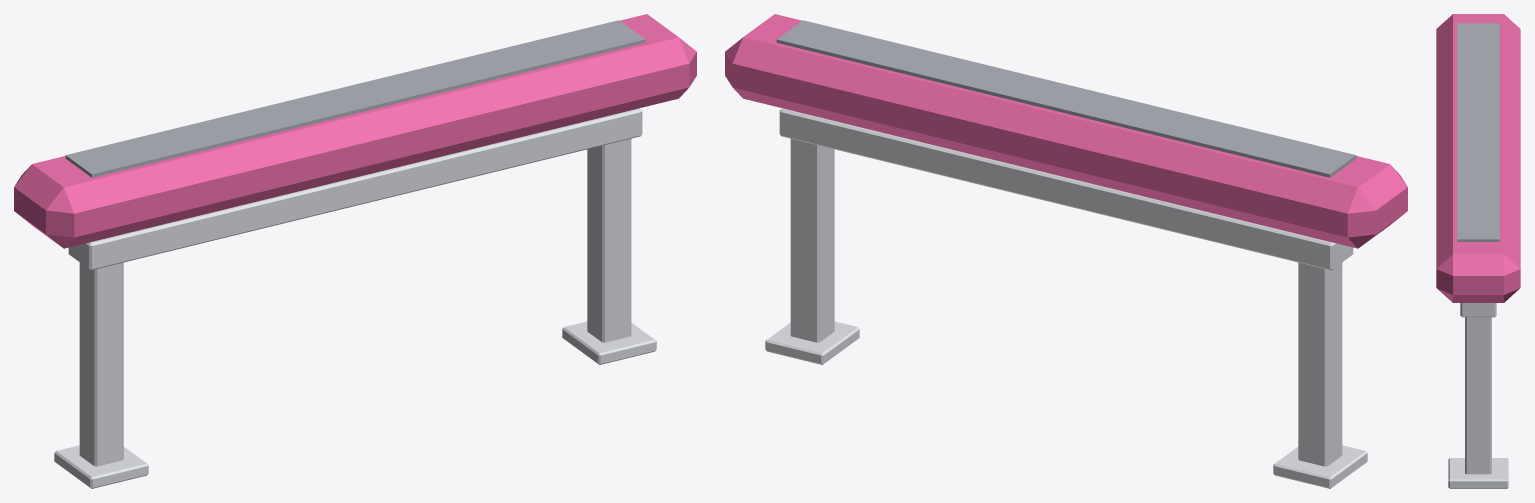
Rendered from trampoline-park-and-soft-play-safety-pad-strip-magenta-894e0d8e__34611.glb.
3 renders of one model, left to right at view 1: azimuth 30°, elevation 25°; view 2: azimuth 150°, elevation 25°; view 3: azimuth 270°, elevation 25°, orthographic. The views are drawn at different scales.
Visible parts, largest first — view 1: safety-pad-strip-magenta; view 2: safety-pad-strip-magenta; view 3: safety-pad-strip-magenta.
Part boxes in pixels (<box>): safety-pad-strip-magenta: <box>14,14,696,488</box>; safety-pad-strip-magenta: <box>725,14,1407,488</box>; safety-pad-strip-magenta: <box>1436,14,1520,488</box>.
Bounding box in the file's own units: 2 × 0.9099 × 0.28.
